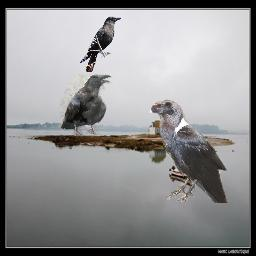Crow: (149, 99, 228, 203), (60, 74, 112, 136), (80, 16, 121, 72)
